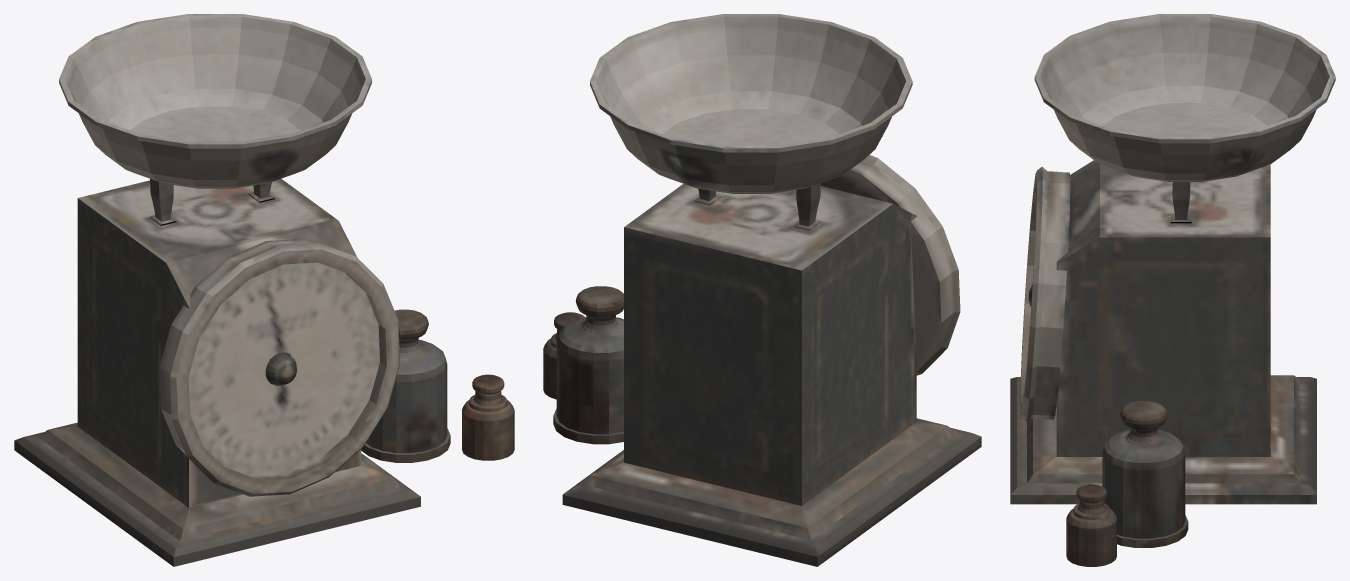
File: KitchenScale.fbx
The picture shows the model from 3 angles, left to right: view 1: azimuth 30°, elevation 25°; view 2: azimuth 150°, elevation 25°; view 3: azimuth 270°, elevation 25°; orthographic projection. The views are drawn at different scales.
Visible parts, largest first — view 1: KitchenScale_Low; view 2: KitchenScale_Low; view 3: KitchenScale_Low.
Part boxes in pixels (x1,y1,x2,y2): KitchenScale_Low: (14,14,514,566); KitchenScale_Low: (543,14,981,566); KitchenScale_Low: (1010,14,1335,566).
Size of the model in its own units: 0.3214 by 0.3149 by 0.2478.
